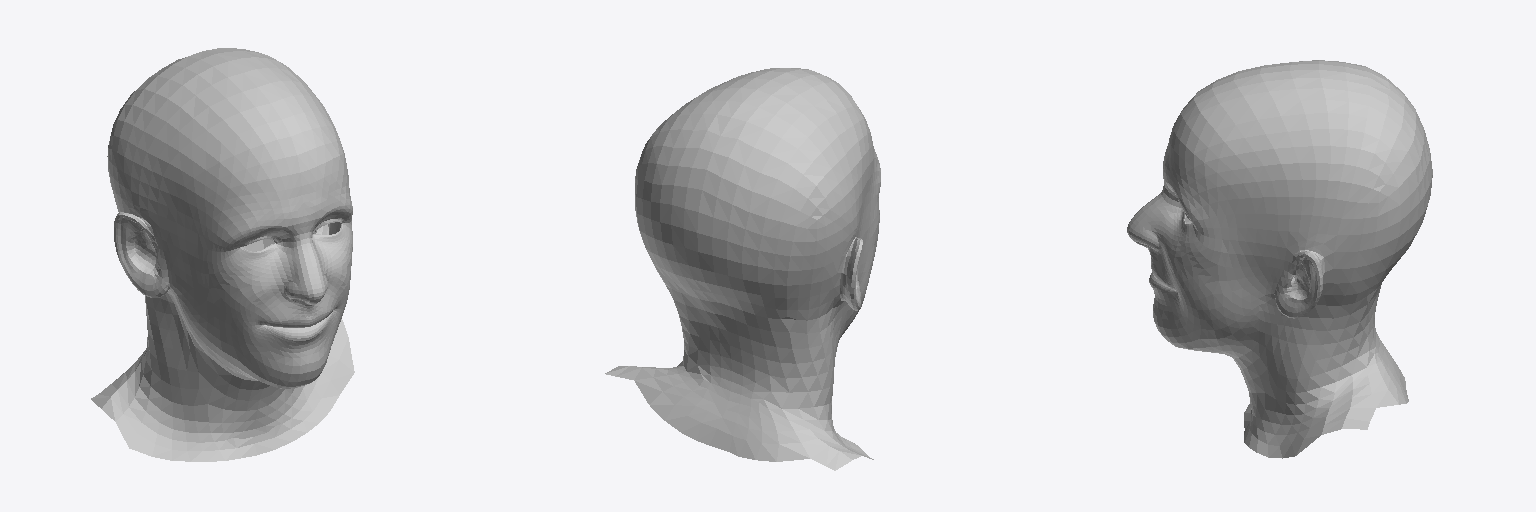
Rendered from 03_RefineMesh_Init.obj.
3 renders of one model, left to right at view 1: azimuth 30°, elevation 25°; view 2: azimuth 150°, elevation 25°; view 3: azimuth 270°, elevation 25°, orthographic.
Parts seen in each view (by area): view 1: CC_Base_Body; view 2: CC_Base_Body; view 3: CC_Base_Body.
Boxes of the visible parts, x1=… form: CC_Base_Body: x1=91, y1=48, x2=354, y2=461; CC_Base_Body: x1=605, y1=68, x2=880, y2=470; CC_Base_Body: x1=1127, y1=60, x2=1432, y2=458.
Bounding box in the file's own units: 19.8 × 28.85 × 21.92.